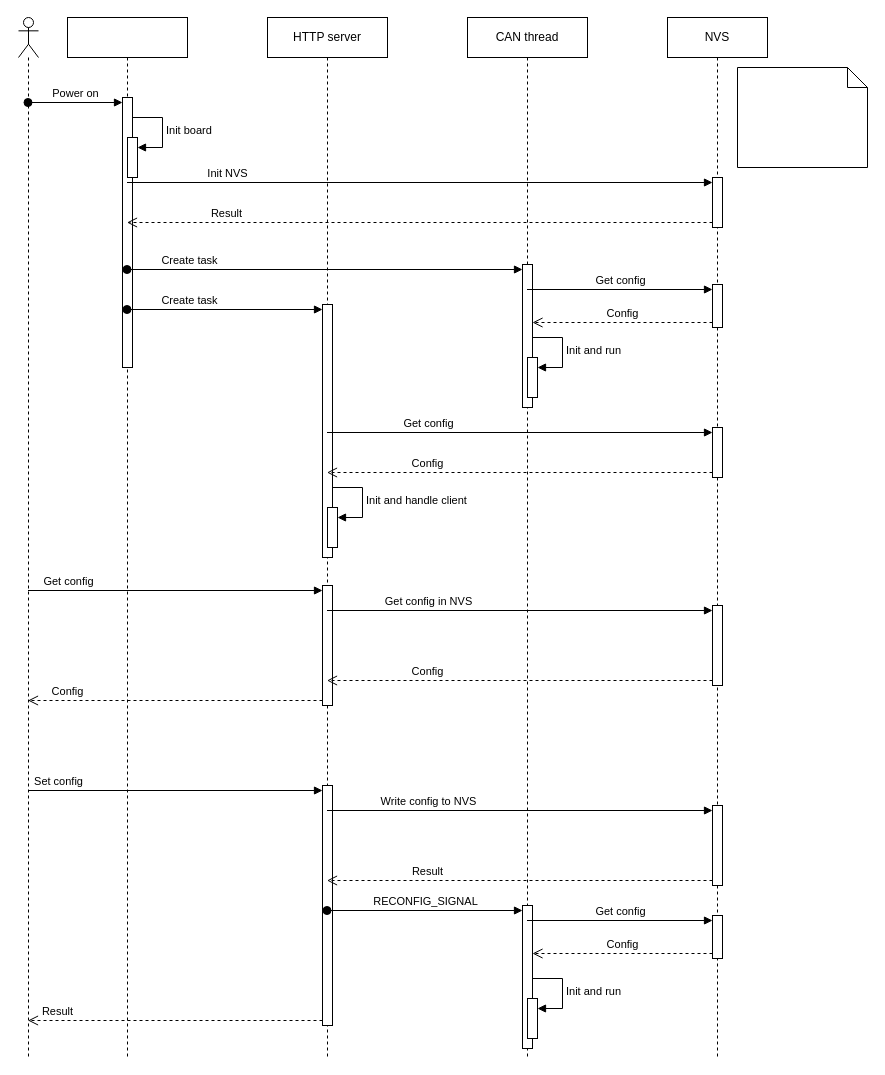
This 885x1075 diagram has some shape labels left out. Here are the shapes that lost their labels. From the top down, the box of each, then its label:
(736, 66, 868, 168): Every get and set call to NVS must use mutex lock to protext race condition
(66, 16, 188, 1058): Main
